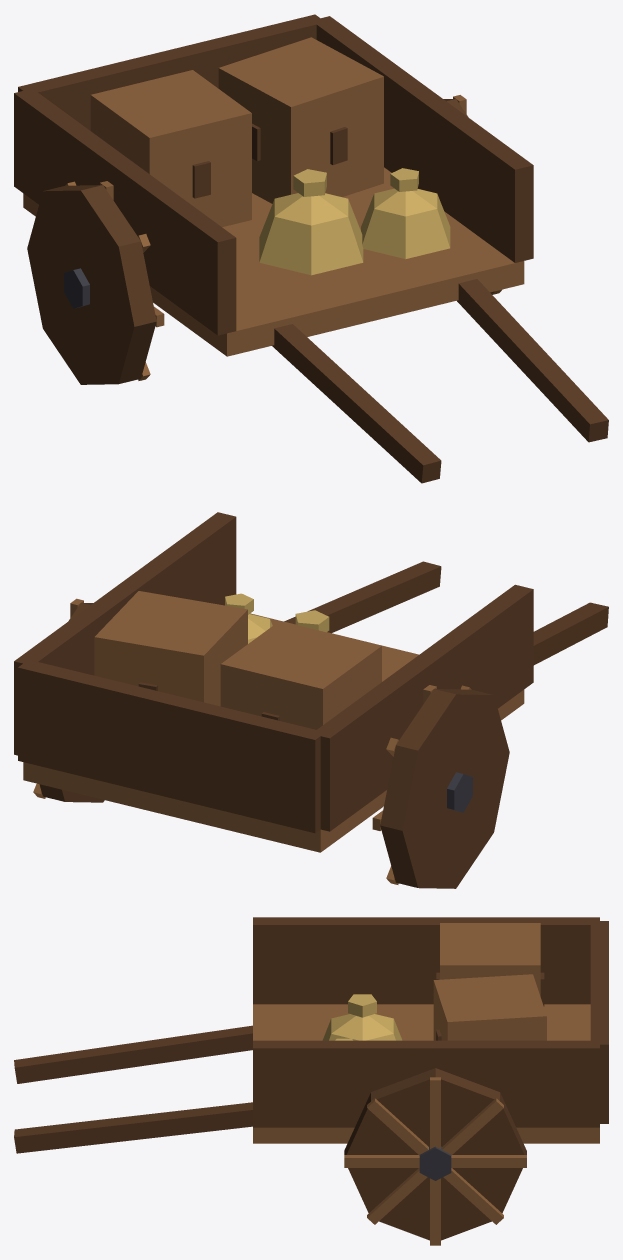
The model's file is Cart.fbx.
The picture shows the model from 3 angles, top to bottom: view 1: azimuth 30°, elevation 25°; view 2: azimuth 150°, elevation 25°; view 3: azimuth 270°, elevation 25°; orthographic projection. The views are drawn at different scales.
Visible parts, largest first — view 1: Cart; view 2: Cart; view 3: Cart.
Part boxes in pixels (x1=…): Cart: x1=14, y1=14, x2=608, y2=483; Cart: x1=14, y1=512, x2=608, y2=888; Cart: x1=14, y1=917, x2=608, y2=1245.
Bounding box in the file's own units: 2.12 × 1.17 × 3.26.
